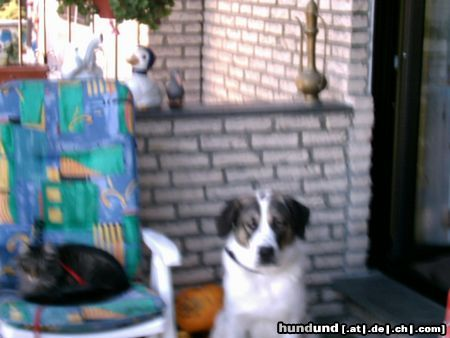kangal: (210, 190, 311, 338)
